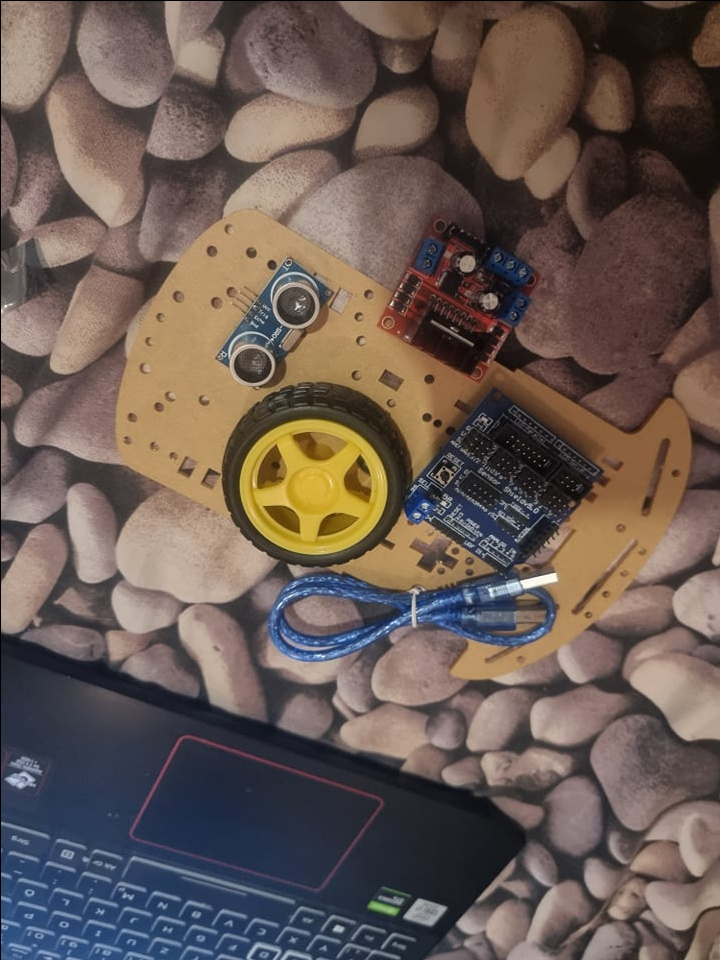5V EXPANSION: (407, 384, 600, 565)
MOTOR: (379, 211, 541, 379)
SENSOR: (221, 260, 330, 387)
